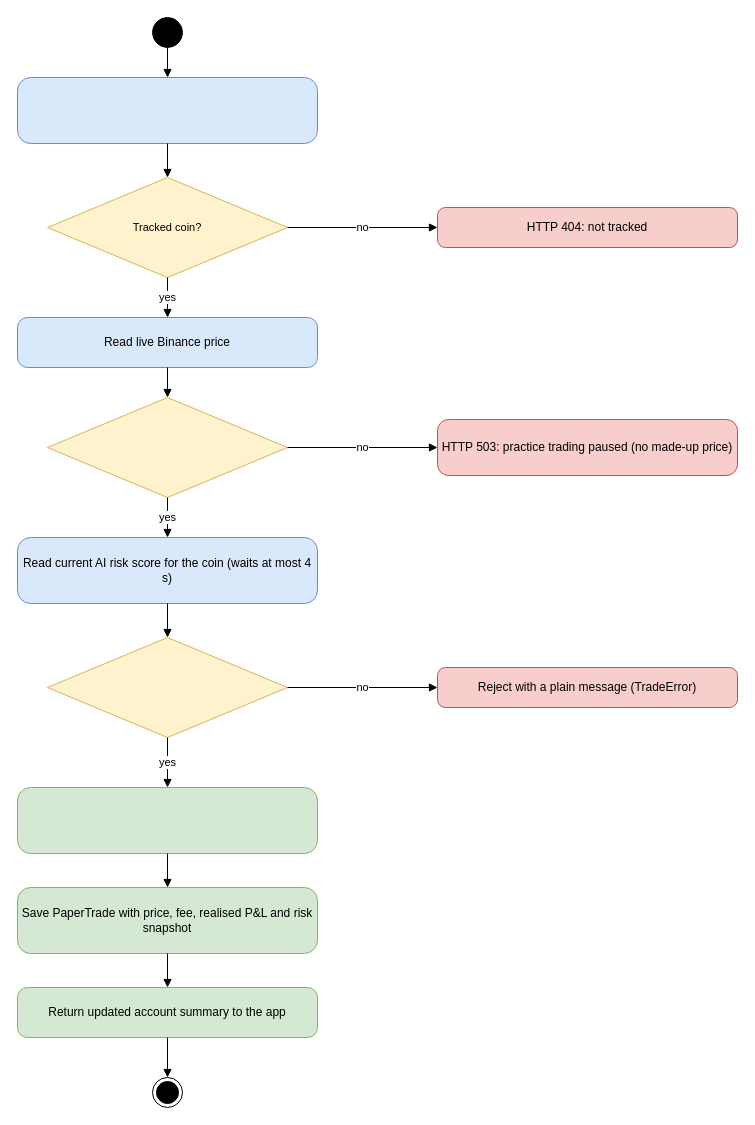
The diagram is 755 pixels wide and 1125 high, and some of its shapes have lost their labels. The centre of each missing label's shape, as x and y in pixels:
"Apply 0.1% fee; update cash, position and fee-inclusive average cost" belongs at point 167,820.
"Live price available?" belongs at point 167,447.
"Logged-in user chooses coin and Buy (USD amount) or Sell (% of holding)" belongs at point 167,110.
"Trade rules met? (at least $1, enough cash / coins held)" belongs at point 167,687.
